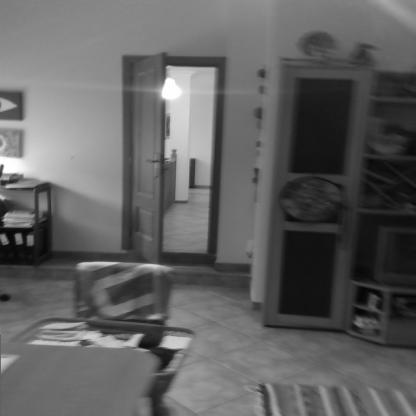semi: (113, 43, 240, 255)
